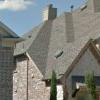Chimney: (37, 2, 60, 24)
